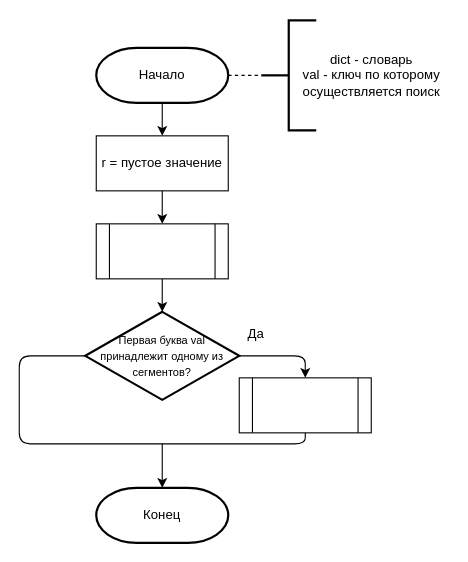
Some shapes in this 468 by 562 pixel diagram are drawn without their labels. The centre of each missing label's shape, as x and y in pixels:
"Произвести двоичный поиск val в данном сегменте" belongs at (x=304, y=405).
"Разбить словарь на сегменты по первой букве username" belongs at (x=161, y=251).
